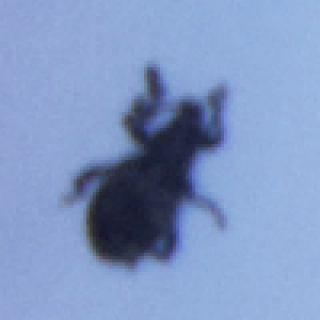bvw: (58, 62, 230, 275)
